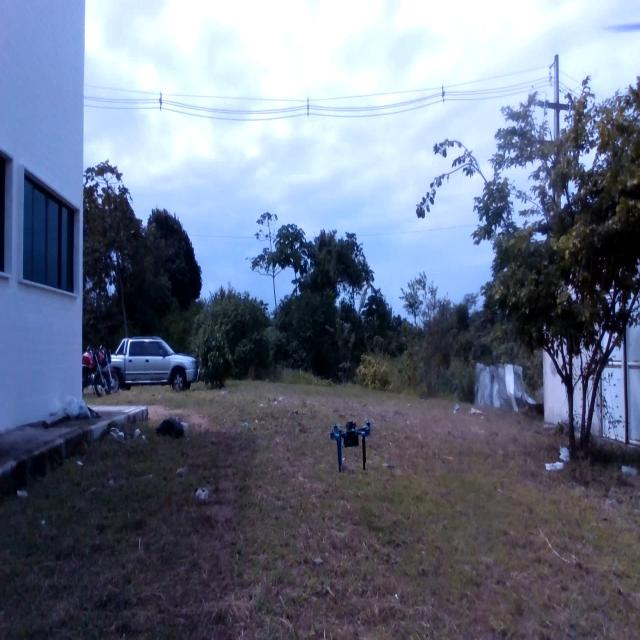-uav-: (325, 410, 378, 480)
